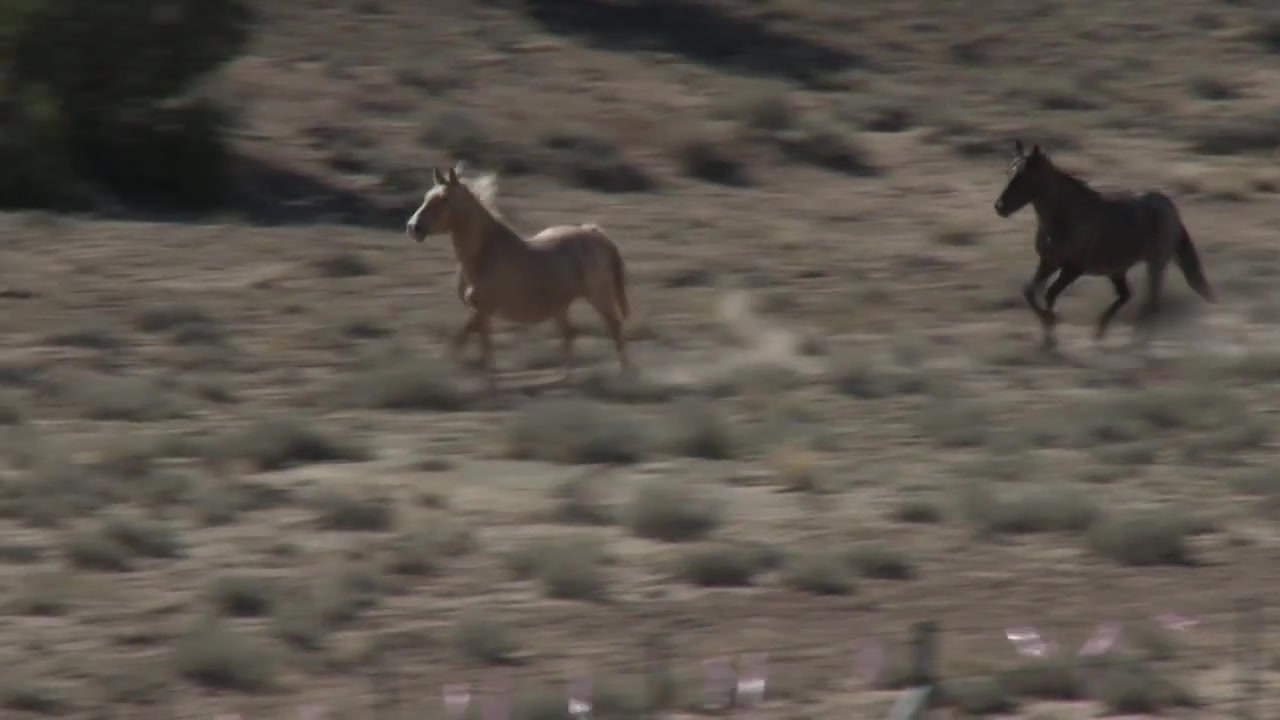horse: (401, 162, 644, 383), (992, 134, 1222, 347)
